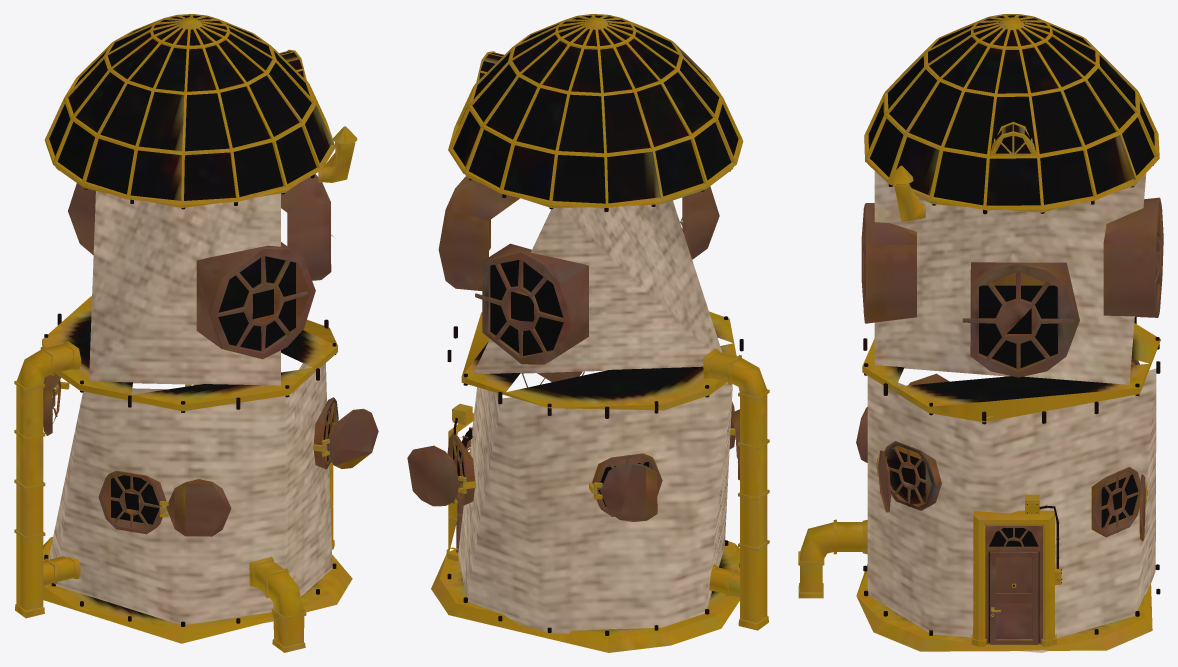
The model's file is BLD_MitoPlant_lod.glb.
3 renders of one model, left to right at view 1: azimuth 30°, elevation 25°; view 2: azimuth 150°, elevation 25°; view 3: azimuth 270°, elevation 25°, orthographic. The views are drawn at different scales.
Visible parts, largest first — view 1: Object_4; view 2: Object_4; view 3: Object_4.
Boxes of the visible parts, x1,y1,x2,y2 form: Object_4: [14, 14, 378, 652]; Object_4: [407, 14, 769, 652]; Object_4: [798, 14, 1163, 652].
Bounding box in the file's own units: 7.24 × 12.86 × 7.45.
Materials: 1 (1 with a texture image).
